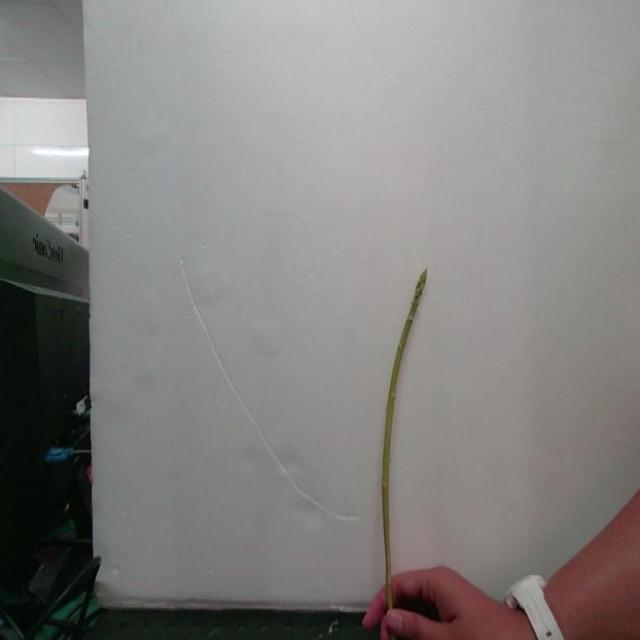aspargus: (380, 273, 430, 611)
